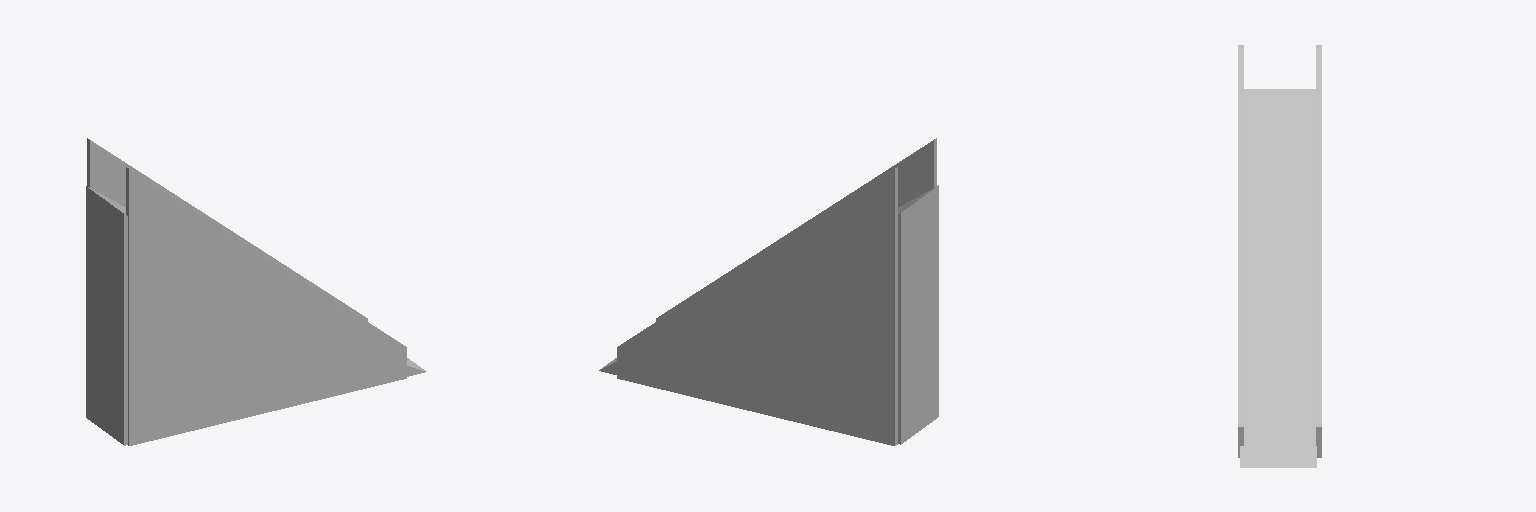
File: LongStairsCollider.obj
3 renders of one model, left to right at view 1: azimuth 30°, elevation 25°; view 2: azimuth 150°, elevation 25°; view 3: azimuth 270°, elevation 25°, orthographic.
Visible parts, largest first — view 1: polySurface89; view 2: polySurface89; view 3: polySurface89.
Part boxes in pixels (left/top/right/bottom): polySurface89: left=86, top=138, right=426, bottom=445; polySurface89: left=599, top=138, right=938, bottom=445; polySurface89: left=1238, top=45, right=1321, bottom=467.
Size of the model in its own units: 18.26 by 16.02 by 4.4.